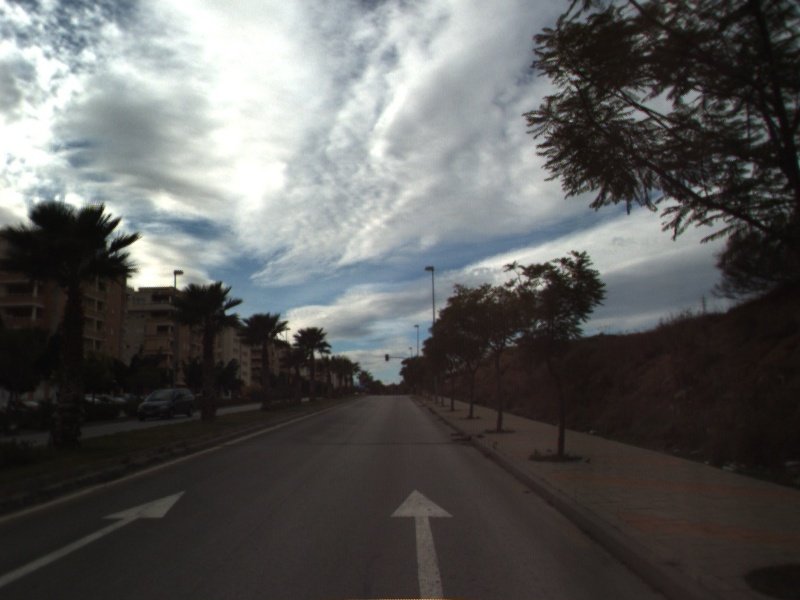STRAIGHT: (1, 488, 188, 589), (388, 487, 457, 600)
